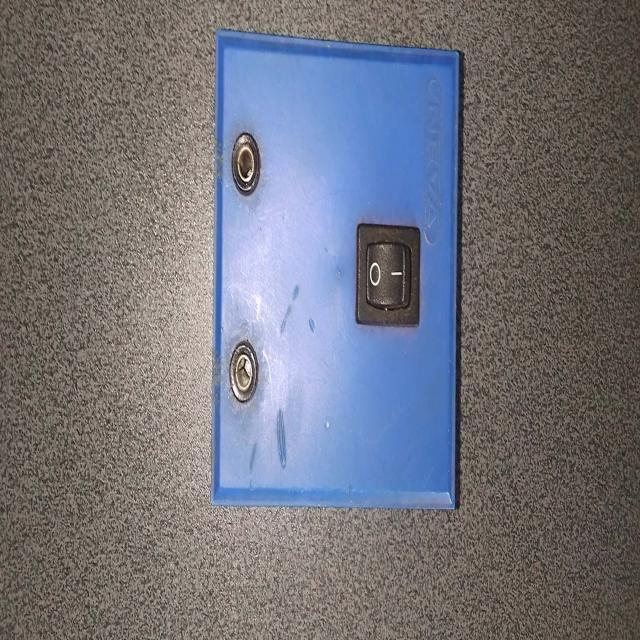ON-OFF Switch: (205, 6, 473, 529)
